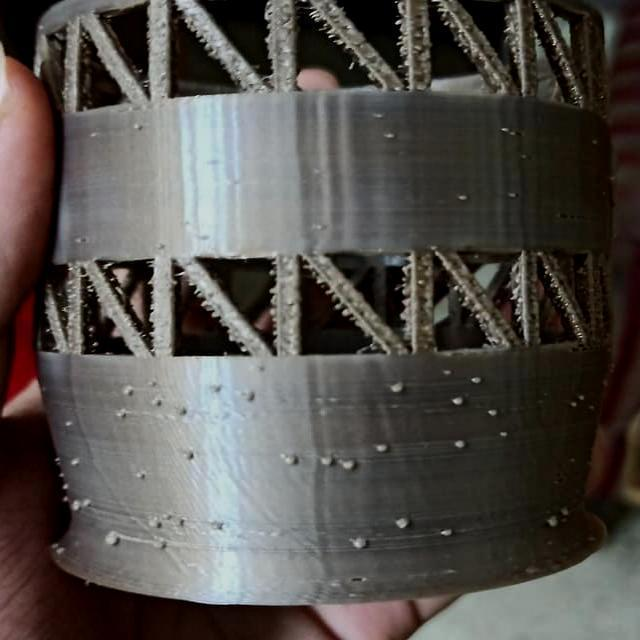zits: (100, 526, 124, 549), (346, 534, 372, 554), (66, 496, 94, 514), (390, 515, 414, 535), (384, 380, 406, 400), (540, 512, 562, 532), (241, 386, 262, 406), (340, 457, 360, 477), (462, 374, 488, 389), (492, 424, 512, 442), (438, 524, 458, 542), (152, 532, 170, 552), (376, 126, 398, 142), (284, 452, 301, 472), (447, 396, 467, 412), (318, 453, 338, 469), (210, 520, 230, 536), (453, 188, 471, 205), (451, 434, 468, 452), (372, 442, 391, 458), (122, 384, 140, 400), (171, 404, 190, 419), (66, 456, 84, 471), (150, 519, 166, 533), (150, 399, 168, 411), (485, 406, 497, 421)
